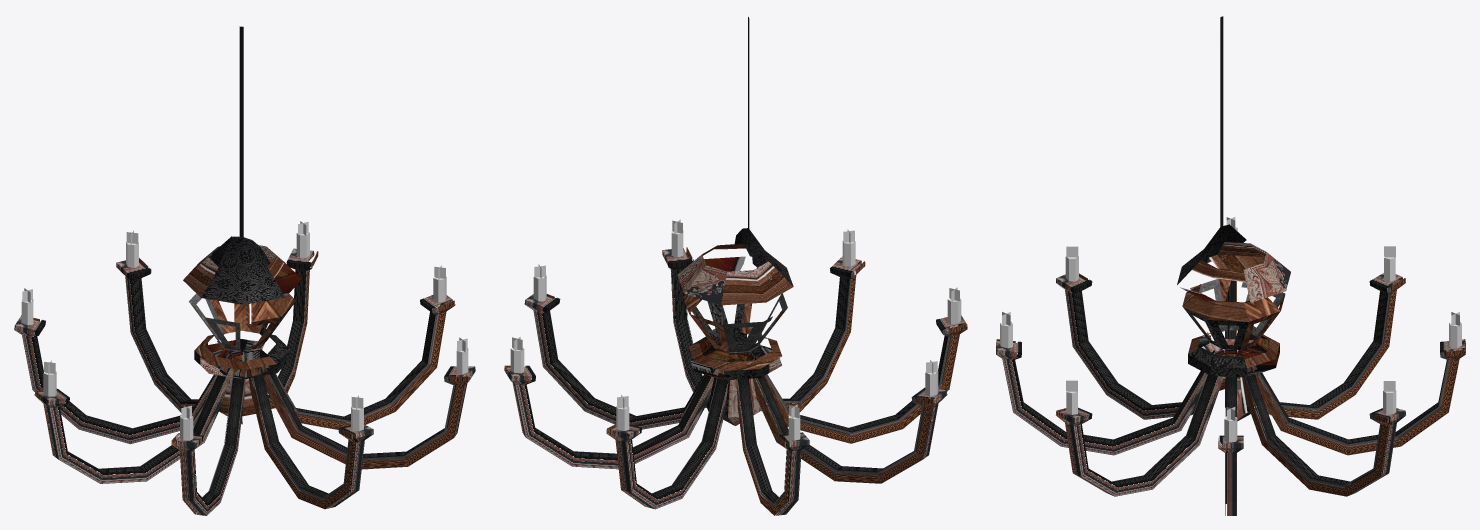
The model's file is Chandelier.fbx.
3 views of the same model, side by side, from view 1: azimuth 30°, elevation 25°; view 2: azimuth 150°, elevation 25°; view 3: azimuth 270°, elevation 25° (orthographic).
Visible parts, largest first — view 1: Plane.003; view 2: Plane.003; view 3: Plane.003.
Boxes of the visible parts, box(x1,y1,x2,y2) form: Plane.003: box(14, 26, 475, 515); Plane.003: box(504, 17, 967, 515); Plane.003: box(996, 16, 1465, 515).
Bounding box in the file's own units: 306 × 310 × 306.
Materials: 2 (1 with a texture image).
